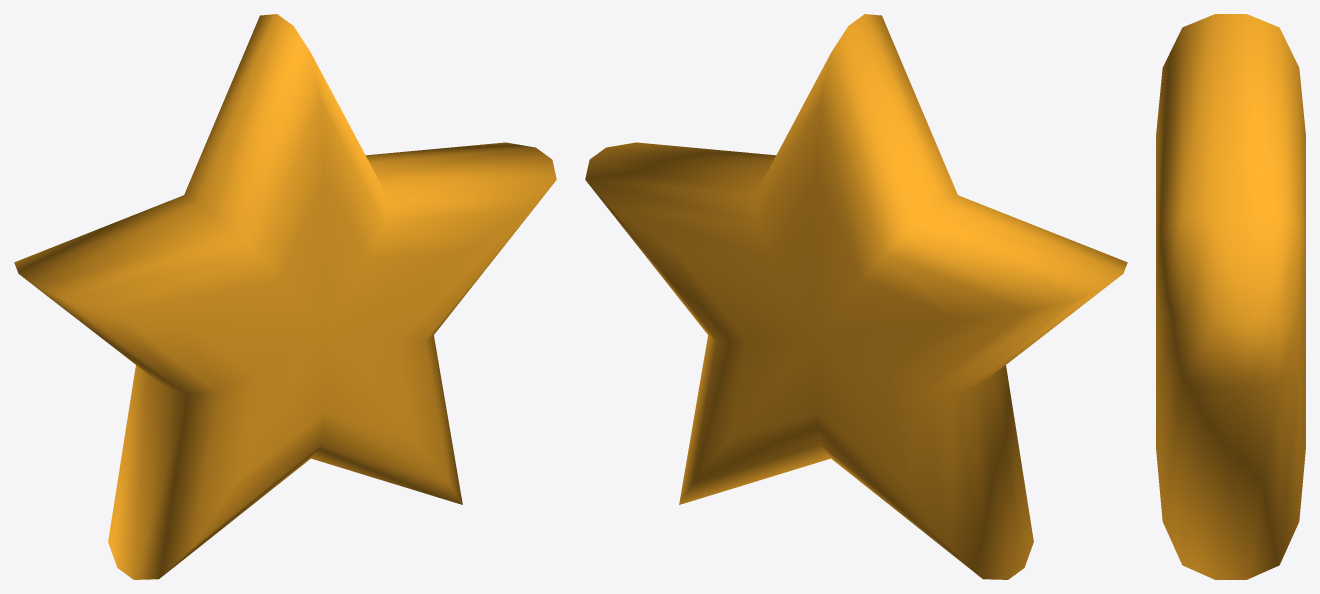
The model's file is 04-STAR-05.fbx.
3 renders of one model, left to right at view 1: azimuth 30°, elevation 25°; view 2: azimuth 150°, elevation 25°; view 3: azimuth 270°, elevation 25°, orthographic. The views are drawn at different scales.
Parts seen in each view (by area): view 1: 04-STAR-05; view 2: 04-STAR-05; view 3: 04-STAR-05.
Part boxes in pixels (x1,y1,x2,y2): 04-STAR-05: (14, 14, 556, 579); 04-STAR-05: (585, 14, 1127, 579); 04-STAR-05: (1156, 14, 1305, 579).
Size of the model in its own units: 380 by 362 by 100.
